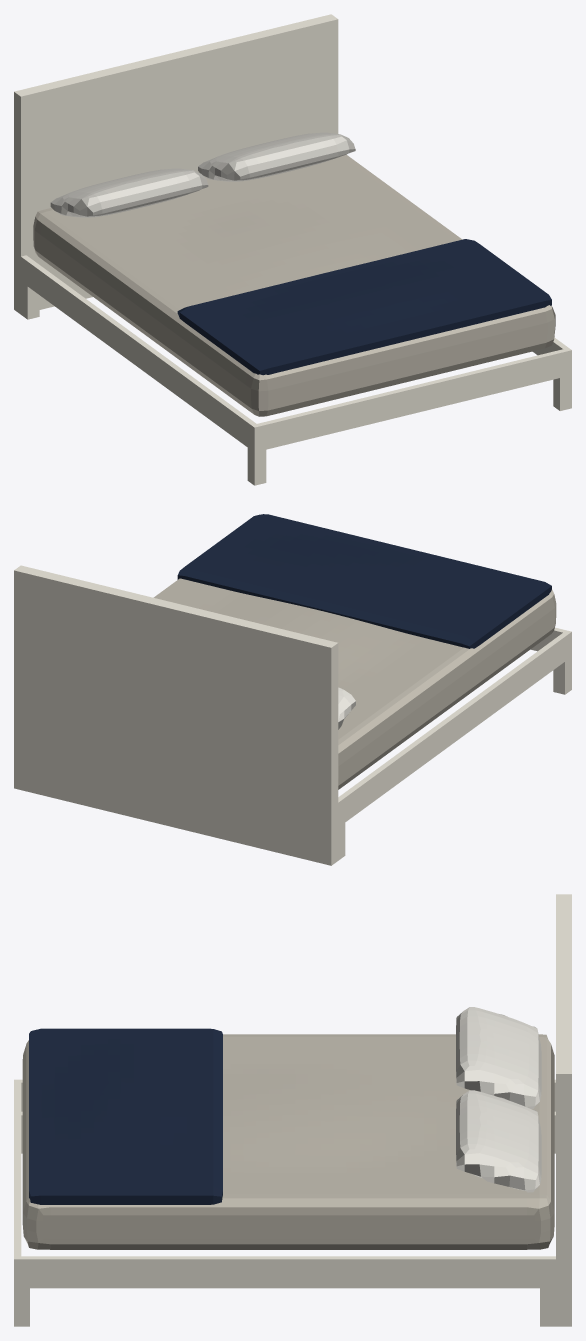
The model's file is LIT-BED-queen.glb.
The picture shows the model from 3 angles, top to bottom: view 1: azimuth 30°, elevation 25°; view 2: azimuth 150°, elevation 25°; view 3: azimuth 270°, elevation 25°; orthographic projection. The views are drawn at different scales.
Parts seen in each view (by area): view 1: mattress:pbr, head:pbr, throw:pbr, foot:pbr, rail-l:pbr, pillow-l:pbr, pillow-r:pbr, leg-fl:pbr, leg-fr:pbr; view 2: head:pbr, throw:pbr, mattress:pbr, rail-l:pbr, leg-fl:pbr, pillow-l:pbr; view 3: mattress:pbr, throw:pbr, rail-r:pbr, pillow-r:pbr, pillow-l:pbr, head:pbr, foot:pbr, leg-hr:pbr, leg-fr:pbr.
Boxes of the visible parts, x1,y1,x2,y2 form: mattress:pbr: [33, 154, 555, 416]; head:pbr: [14, 14, 338, 314]; throw:pbr: [177, 239, 551, 375]; foot:pbr: [257, 349, 566, 450]; rail-l:pbr: [21, 255, 259, 452]; pillow-l:pbr: [50, 168, 208, 217]; pillow-r:pbr: [198, 132, 355, 181]; leg-fl:pbr: [247, 448, 266, 485]; leg-fr:pbr: [553, 375, 571, 410]; head:pbr: [14, 565, 338, 865]; throw:pbr: [177, 514, 551, 648]; mattress:pbr: [153, 578, 556, 789]; rail-l:pbr: [338, 630, 571, 827]; leg-fl:pbr: [553, 657, 571, 694]; pillow-l:pbr: [338, 687, 355, 729]; mattress:pbr: [22, 1034, 554, 1249]; throw:pbr: [29, 1028, 222, 1204]; rail-r:pbr: [14, 1256, 555, 1288]; pillow-r:pbr: [456, 1090, 541, 1192]; pillow-l:pbr: [456, 1007, 541, 1108]; head:pbr: [556, 894, 571, 1326]; foot:pbr: [14, 1082, 21, 1256]; leg-hr:pbr: [540, 1288, 555, 1326]; leg-fr:pbr: [14, 1288, 29, 1326].
Bounding box in the file's own units: 1.6 × 1.05 × 2.1.
